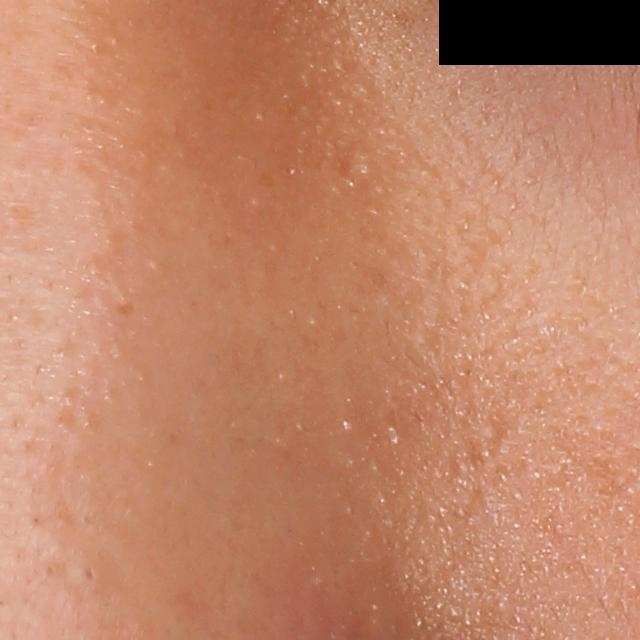comedo: (81, 565, 96, 582)
